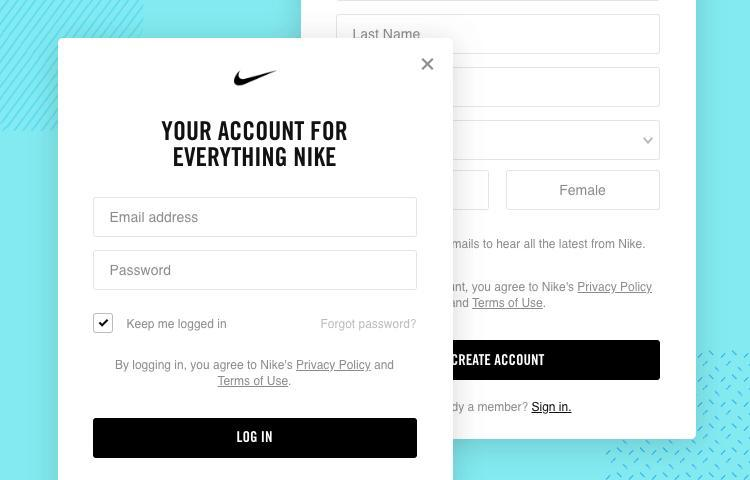button: (92, 417, 419, 462), (454, 341, 662, 382)
checkbox: (91, 313, 116, 334)
input: (92, 196, 420, 240), (92, 249, 419, 293)
label: (161, 121, 349, 169), (320, 316, 418, 333), (126, 317, 230, 332)
